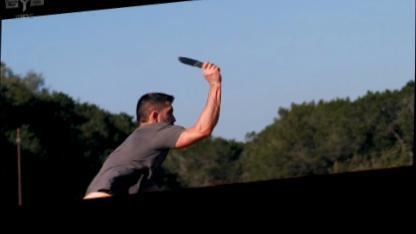knife: (175, 52, 221, 83)
